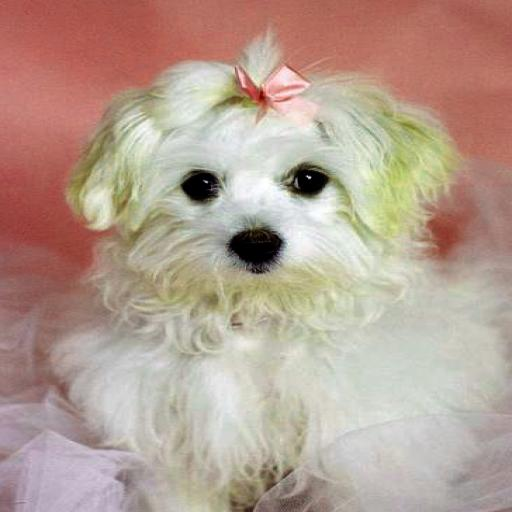dog_face: (71, 48, 451, 301)
